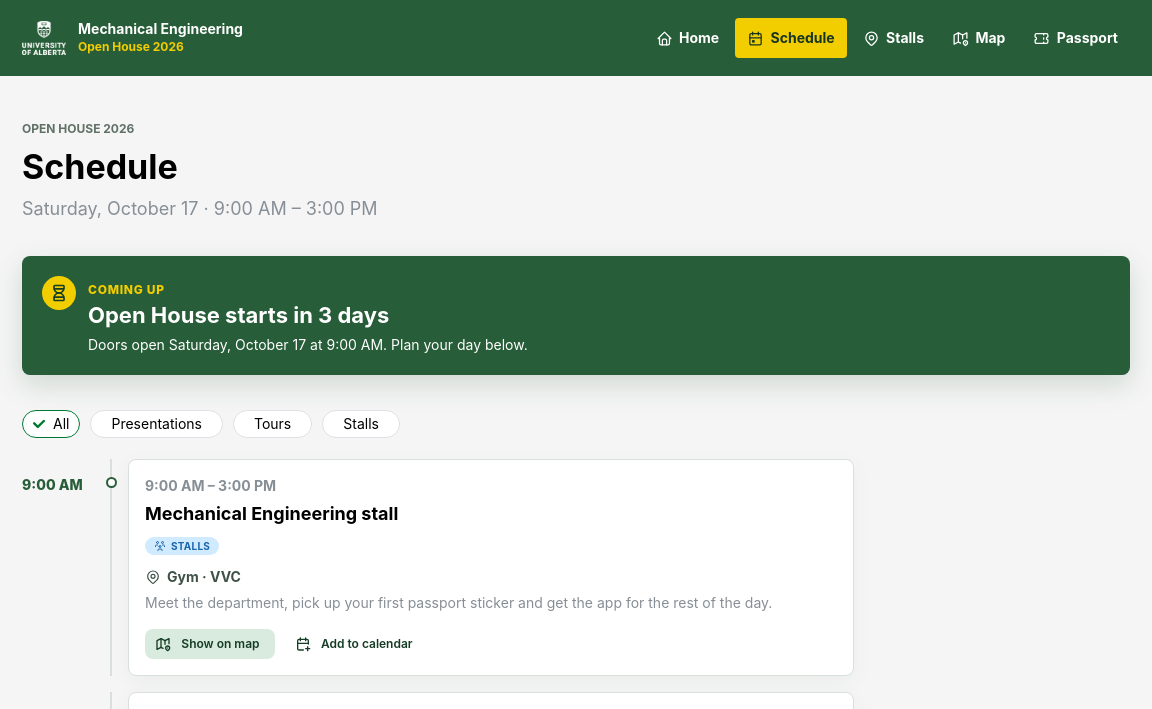
Test: schedule page › filters the timeline by category
Click the radio button labelled "Presentations" at (157, 424), box left=90, top=410, right=223, bottom=438
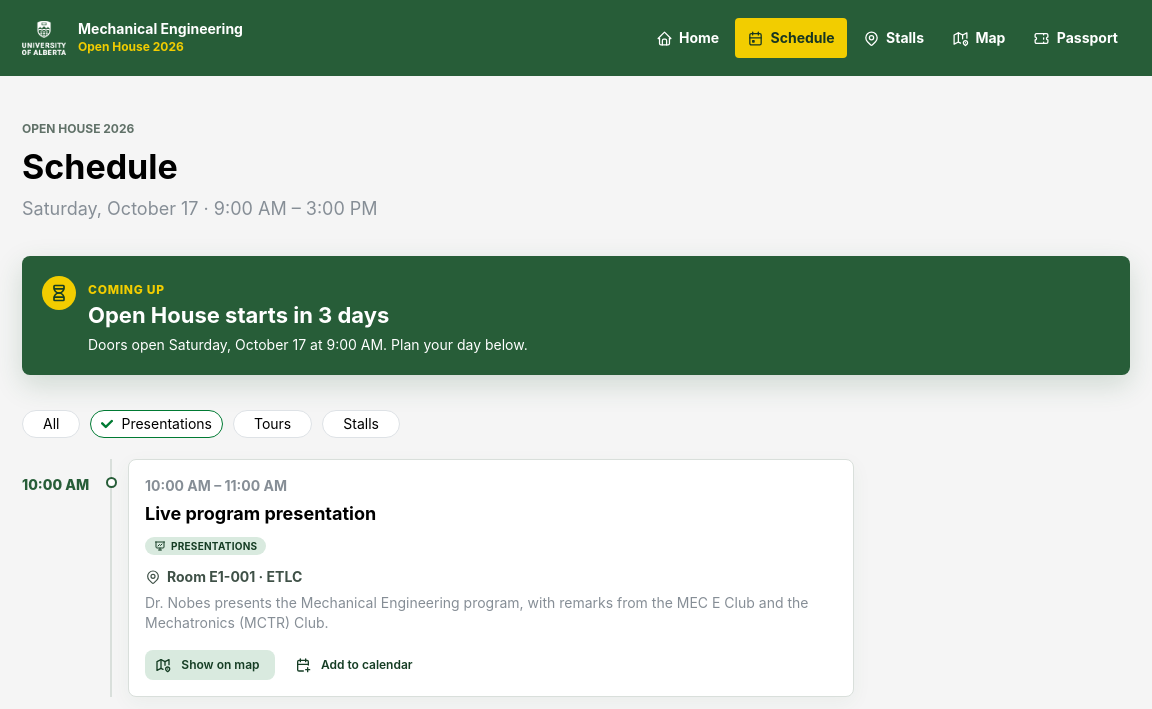
Expected: the number of headings "Live program presentation" is 1, left=145, top=503, right=376, bottom=524
